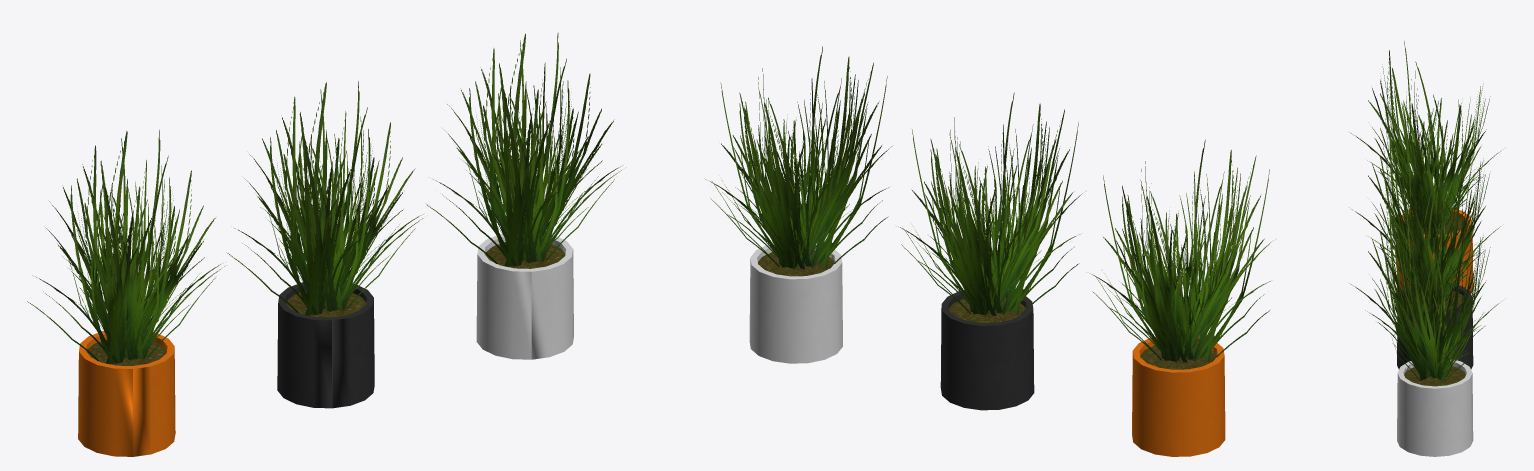
Rendered from optimized-potted-plants-967b4b.glb.
3 renders of one model, left to right at view 1: azimuth 30°, elevation 25°; view 2: azimuth 150°, elevation 25°; view 3: azimuth 270°, elevation 25°, orthographic. The views are drawn at different scales.
Visible parts, largest first — view 1: PropMesh; view 2: PropMesh; view 3: PropMesh.
Boxes of the visible parts, <box> form: PropMesh: <box>27,32,622,456</box>; PropMesh: <box>705,46,1275,456</box>; PropMesh: <box>1349,41,1501,456</box>.
Bounding box in the file's own units: 1.27 × 0.6 × 0.4385.
1 material, 1 textured.
